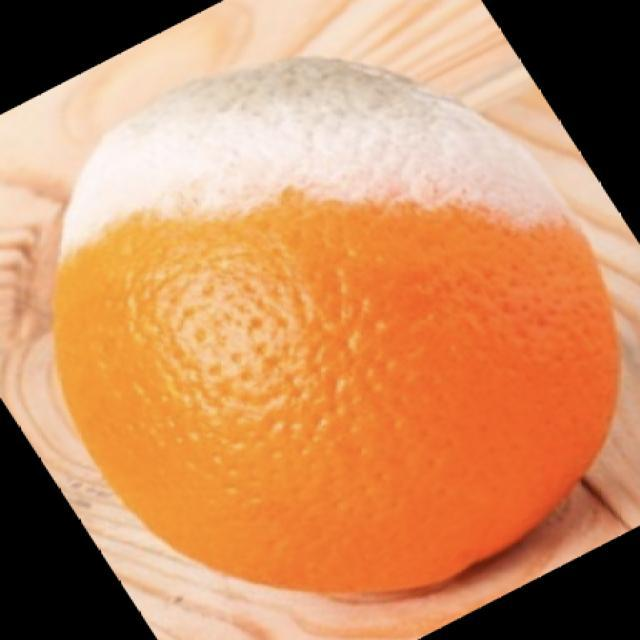sangat-busuk: (61, 59, 561, 256)
